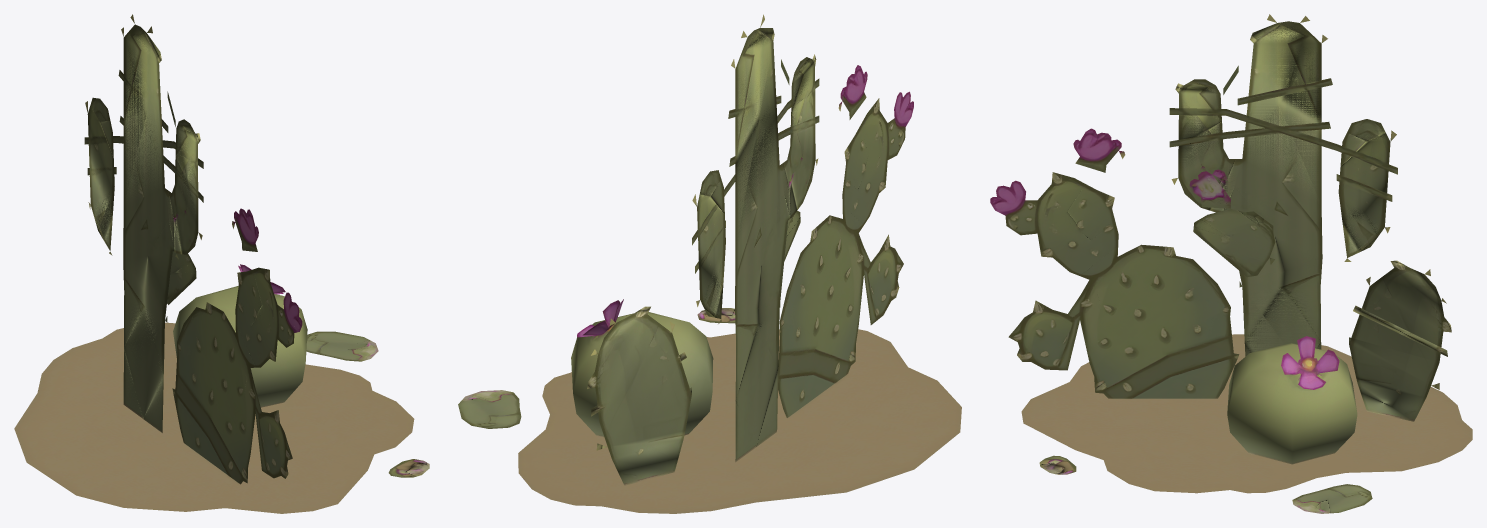
Rendered from map_cactus_tripo.glb.
The picture shows the model from 3 angles, left to right: view 1: azimuth 30°, elevation 25°; view 2: azimuth 150°, elevation 25°; view 3: azimuth 270°, elevation 25°; orthographic projection. The views are drawn at different scales.
Parts seen in each view (by area): view 1: tripo_node_52845770-62bb-468c-bad5-0ccc4a7413eb; view 2: tripo_node_52845770-62bb-468c-bad5-0ccc4a7413eb; view 3: tripo_node_52845770-62bb-468c-bad5-0ccc4a7413eb.
Boxes of the visible parts, x1=… form: tripo_node_52845770-62bb-468c-bad5-0ccc4a7413eb: x1=14, y1=14, x2=429, y2=513; tripo_node_52845770-62bb-468c-bad5-0ccc4a7413eb: x1=458, y1=14, x2=961, y2=513; tripo_node_52845770-62bb-468c-bad5-0ccc4a7413eb: x1=990, y1=14, x2=1472, y2=513.
Size of the model in its own units: 0.8809 by 0.9238 by 0.998.
1 material, 1 textured.
